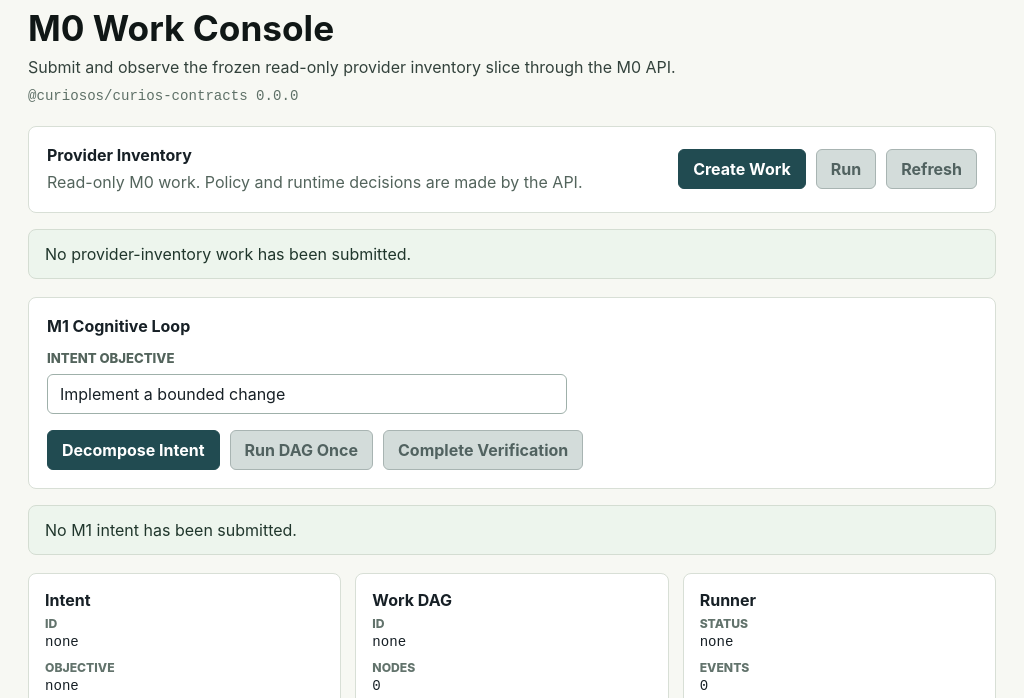
Test: TASK-M1-014 web cognitive loop console › renders BLOCKED runner outcomes as M1 domain truth
The width and height of the screenshot is (1024, 698).
Click the button "Decompose Intent" at [133, 450], box [47,430,220,470]
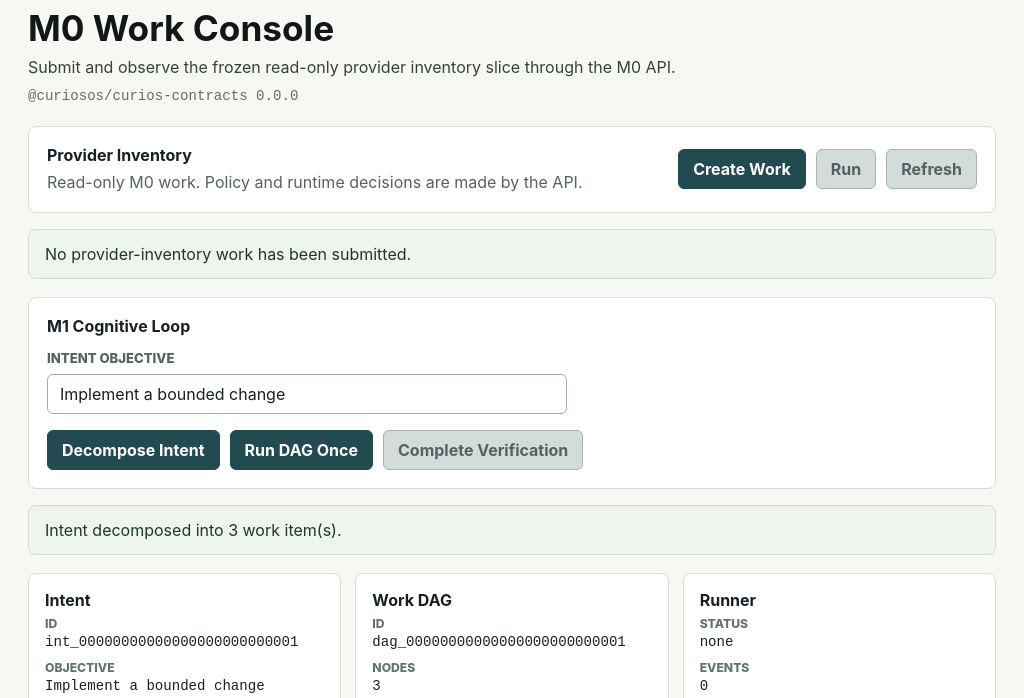
Click the button "Run DAG Once" at [301, 450], box [230,430,373,470]
(page scrolled)
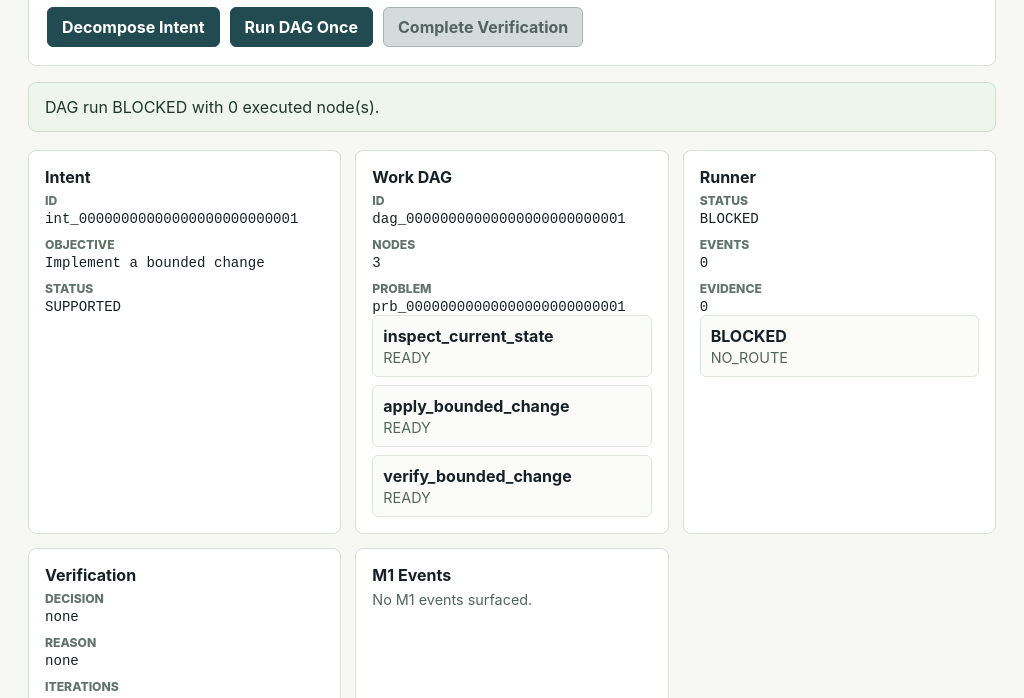
Expected: the element showing "Runner Status BLOCKED Events 0 Evidence 0 BLOCKED NO_ROUTE" is shown, [683,150,996,534]
Expected: the text "DAG run BLOCKED with 0 executed node(s)." is shown, [28,82,996,132]
